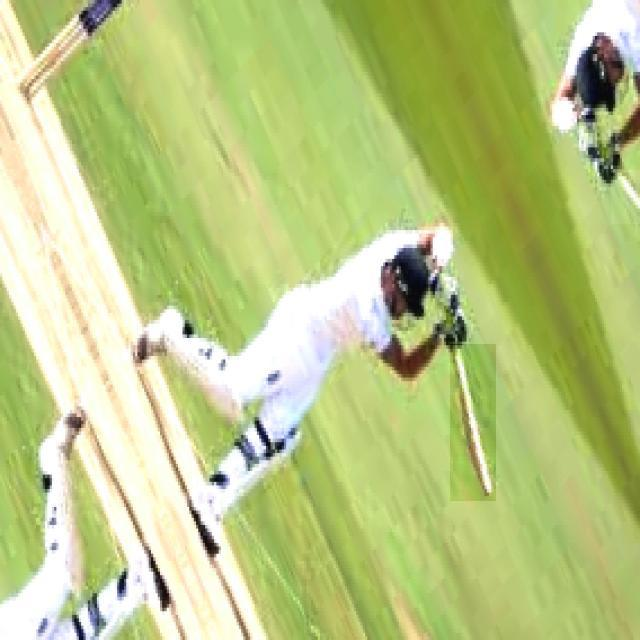bat: (451, 345, 497, 497)
